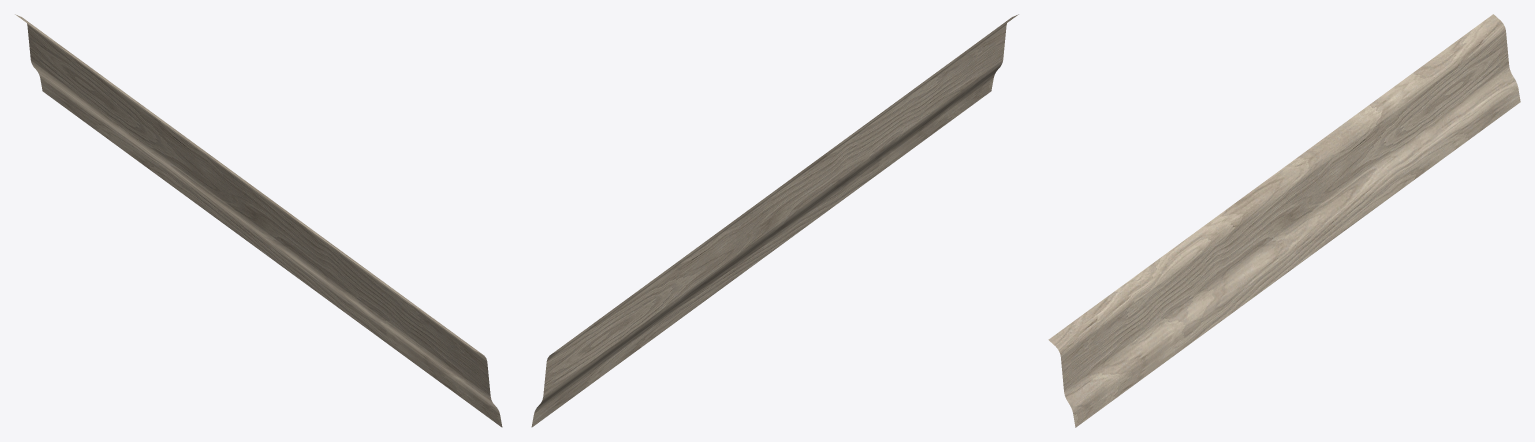
Rendered from WallSkirt2.fbx.
3 renders of one model, left to right at view 1: azimuth 30°, elevation 25°; view 2: azimuth 150°, elevation 25°; view 3: azimuth 330°, elevation 25°, orthographic. The views are drawn at different scales.
Parts seen in each view (by area): view 1: SM_Wall_Skirt_1m; view 2: SM_Wall_Skirt_1m; view 3: SM_Wall_Skirt_1m.
Boxes of the visible parts, x1,y1,x2,y2 form: SM_Wall_Skirt_1m: (15,14,502,427); SM_Wall_Skirt_1m: (531,14,1018,427); SM_Wall_Skirt_1m: (1048,14,1520,427).
Bounding box in the file's own units: 3.53 × 10.1 × 100.
